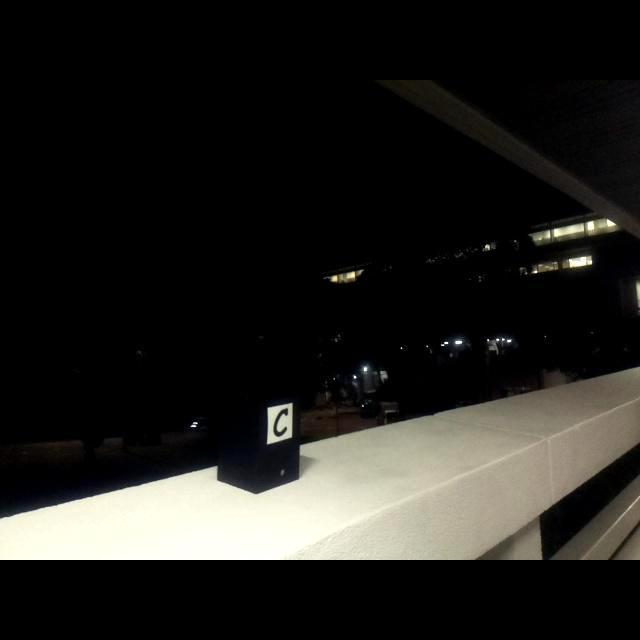C: (273, 408, 289, 438)
